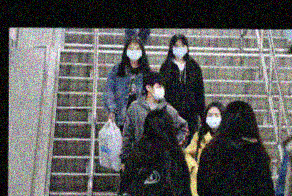with_mask: (204, 111, 222, 129), (124, 44, 143, 61), (171, 41, 188, 59), (150, 82, 165, 101)
